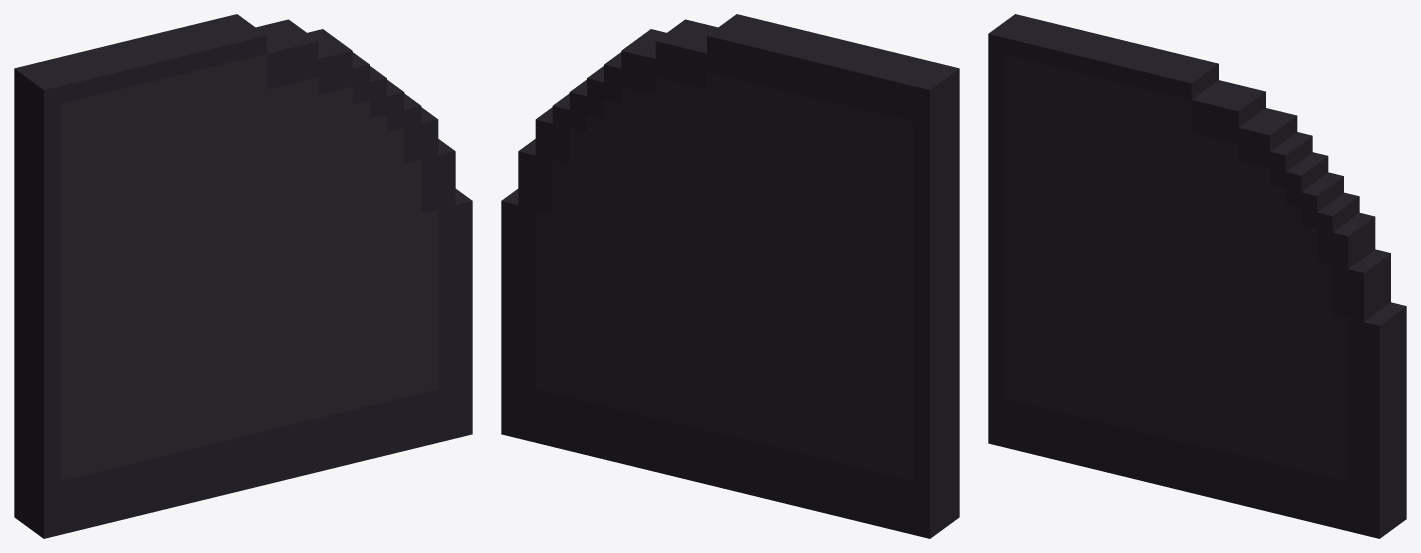
Rendered from wall_curve1.glb.
The picture shows the model from 3 angles, left to right: view 1: azimuth 30°, elevation 25°; view 2: azimuth 150°, elevation 25°; view 3: azimuth 330°, elevation 25°; orthographic projection. The views are drawn at different scales.
Visible parts, largest first — view 1: Untitled; view 2: Untitled; view 3: Untitled.
Boxes of the visible parts, left/top/right/bottom form: Untitled: left=14, top=14, right=472, bottom=538; Untitled: left=501, top=14, right=959, bottom=538; Untitled: left=988, top=14, right=1406, bottom=538.
Bounding box in the file's own units: 2.5 × 2.5 × 0.3.
1 material, 1 textured.
